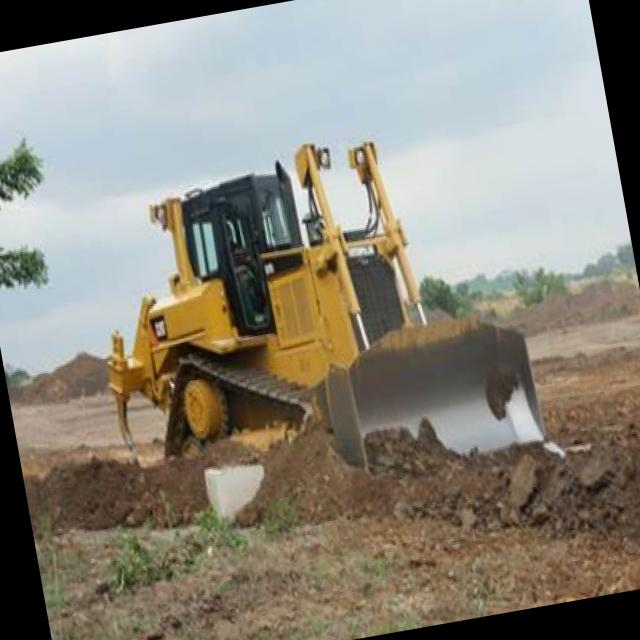Bulldozer: (58, 100, 566, 556)
